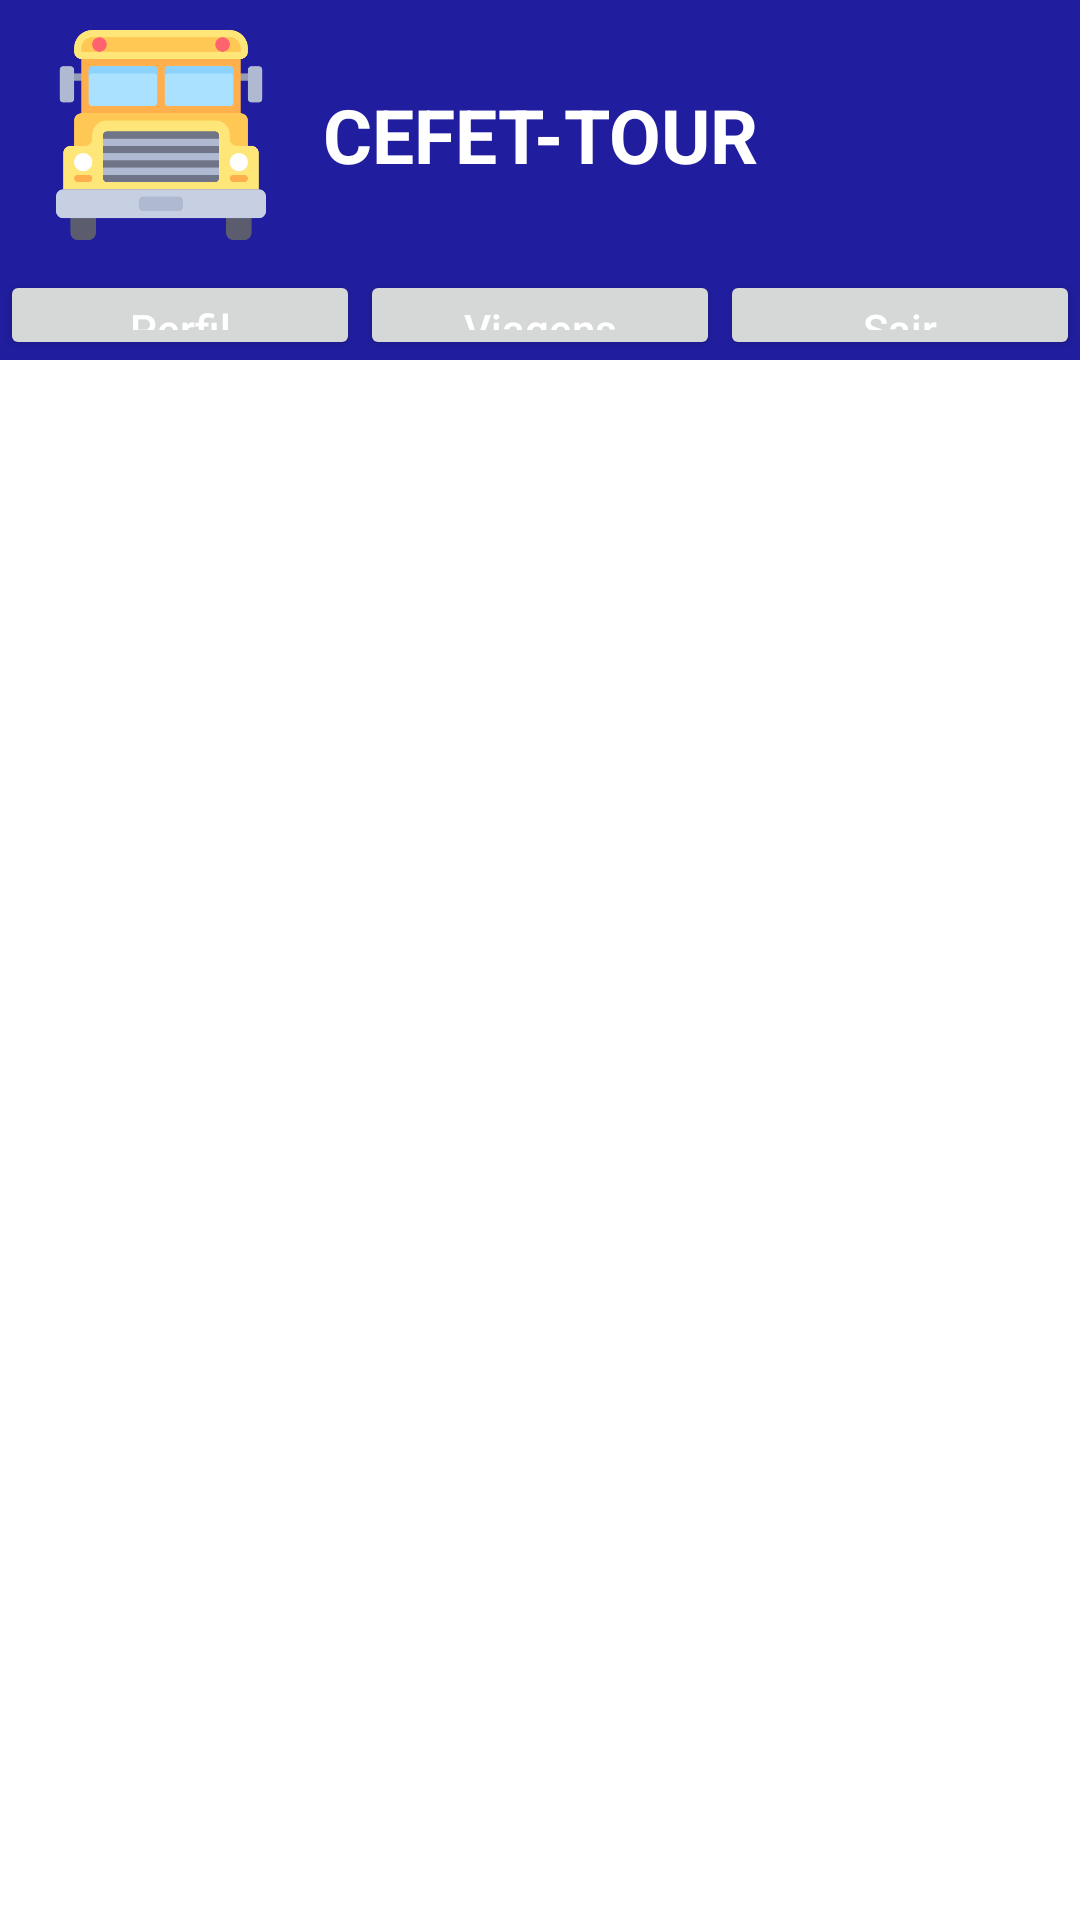

Where icons sit on this 1080 × 1920 app screen, as detection(x1, y1, x2, y2):
schoolbus: detection(56, 30, 266, 240)
